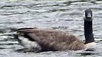goose: (11, 5, 99, 54)
